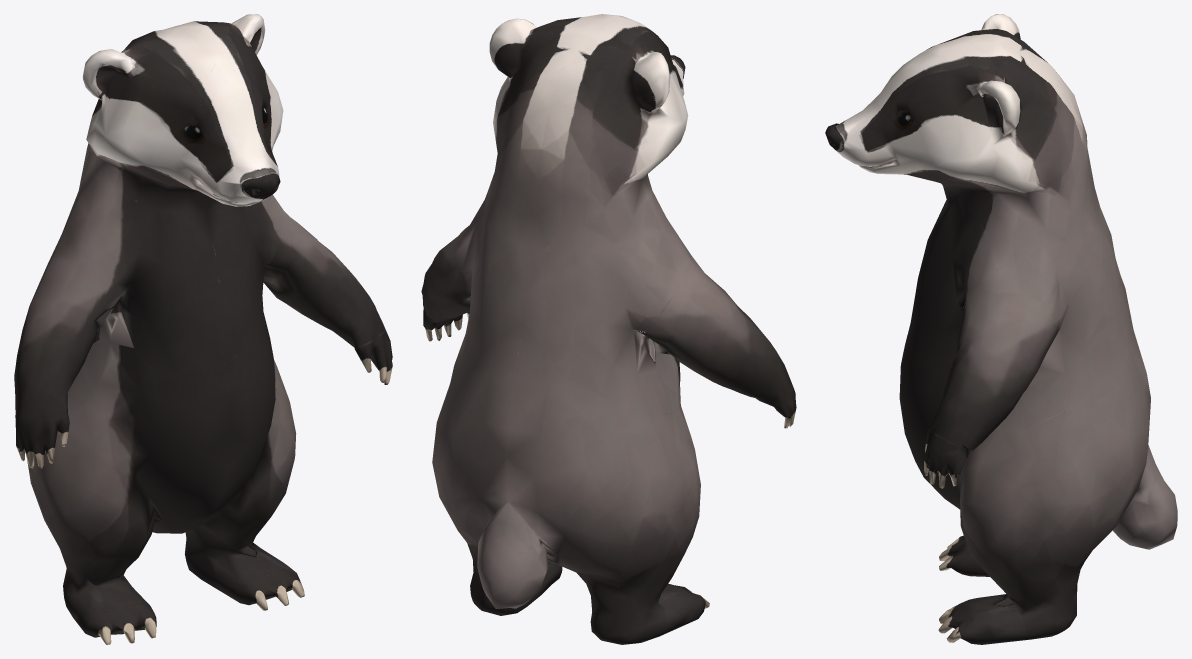
Rendered from badger-arms.glb.
The picture shows the model from 3 angles, left to right: view 1: azimuth 30°, elevation 25°; view 2: azimuth 150°, elevation 25°; view 3: azimuth 270°, elevation 25°; orthographic projection. The views are drawn at different scales.
Visible parts, largest first — view 1: badger; view 2: badger; view 3: badger.
Boxes of the visible parts, bbox=[...] form: badger: bbox=[14, 14, 392, 644]; badger: bbox=[421, 14, 796, 644]; badger: bbox=[825, 14, 1177, 644].
Bounding box in the file's own units: 1.29 × 1.9 × 1.1.
Materials: 1 (1 with a texture image).
